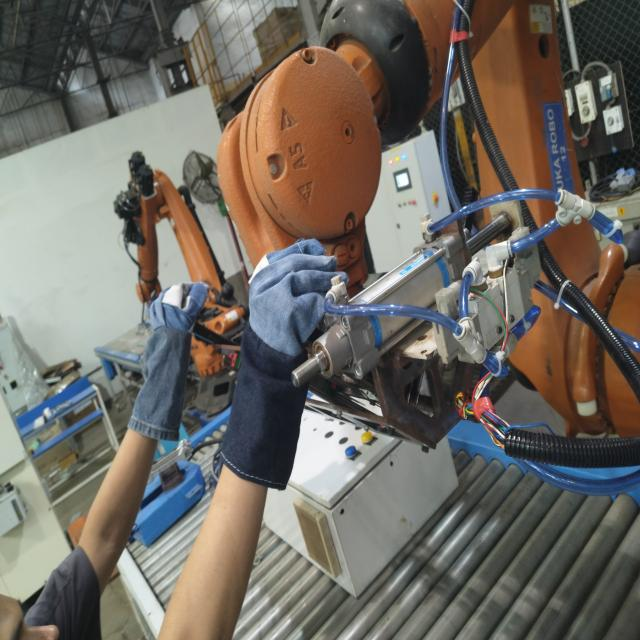Gloves-Detection: (211, 237, 342, 483), (143, 292, 192, 450)
